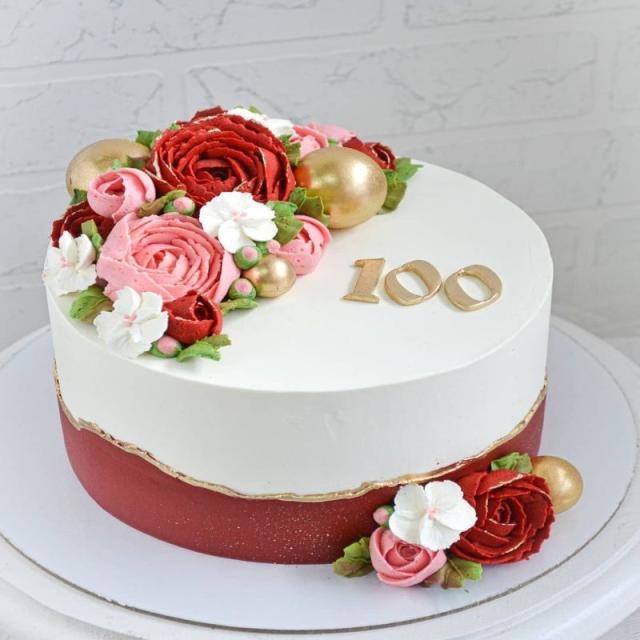Wet Waste: (39, 88, 542, 546)
